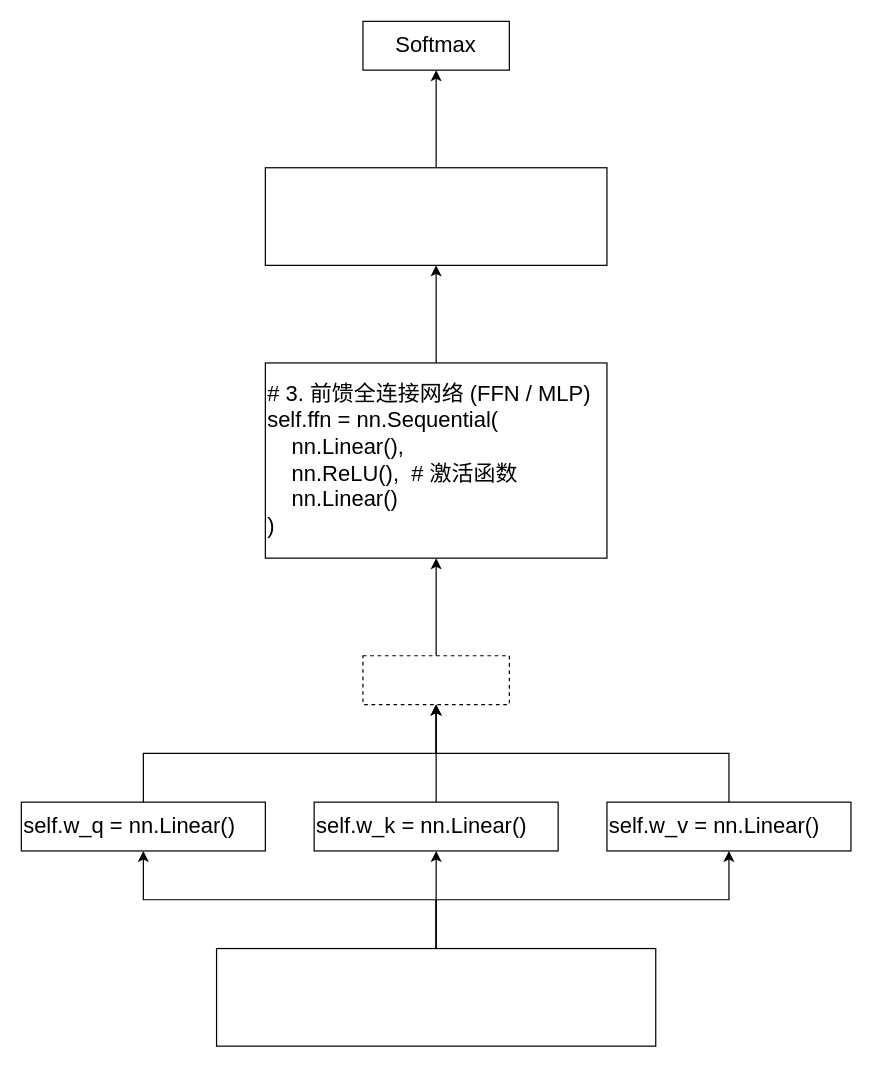
Some shapes in this 872 by 1068 pixel diagram are drawn without their labels. The centre of each missing label's shape, as x and y in pixels:
"# 1. 词嵌入层 self.token_embedding = nn.Embedding()" goes at point 435,996.
"# 4. 语言模型分类头 (LM Head) self.lm_head = nn.Linear()" goes at point 435,216.
"注意力计算" goes at point 435,680.
